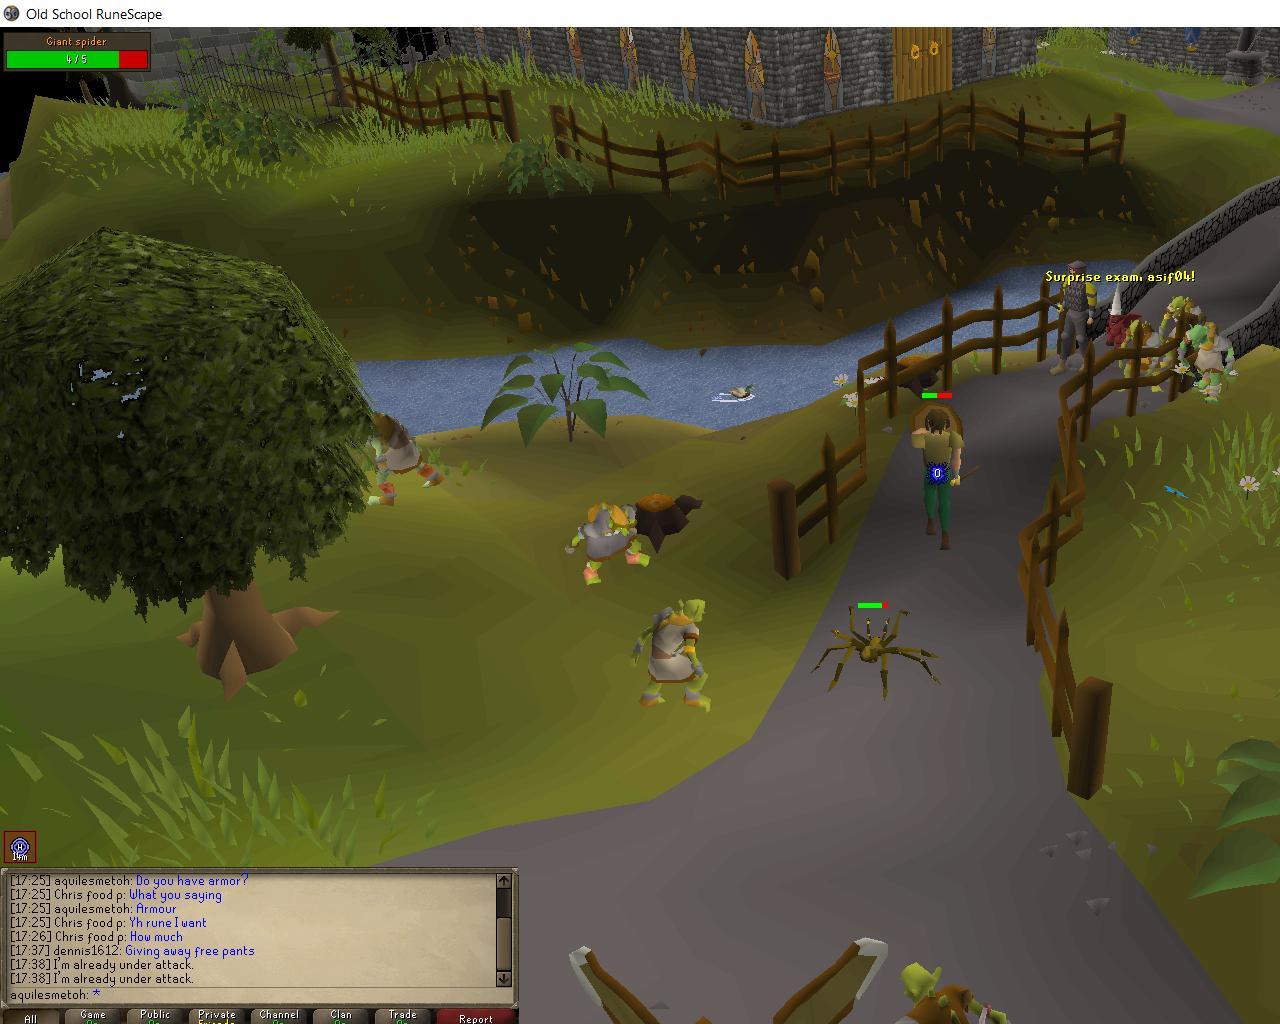Goblin: (343, 403, 453, 509), (628, 594, 715, 714), (564, 499, 653, 589), (897, 958, 1013, 1024), (1172, 322, 1242, 401), (1116, 317, 1164, 395), (1159, 295, 1204, 368)
